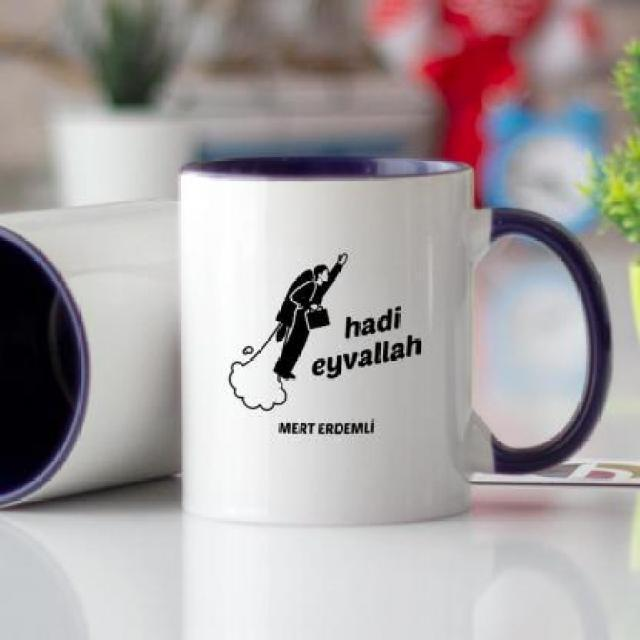taza: (108, 248, 466, 540)
